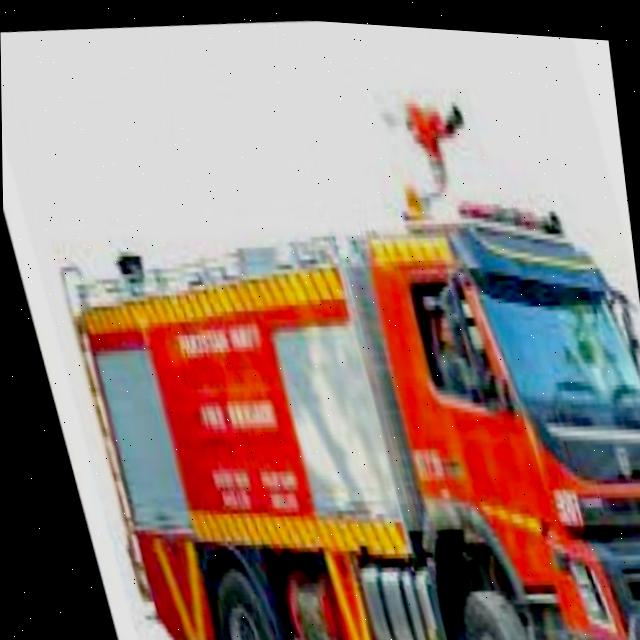emergency: (44, 56, 640, 640)
